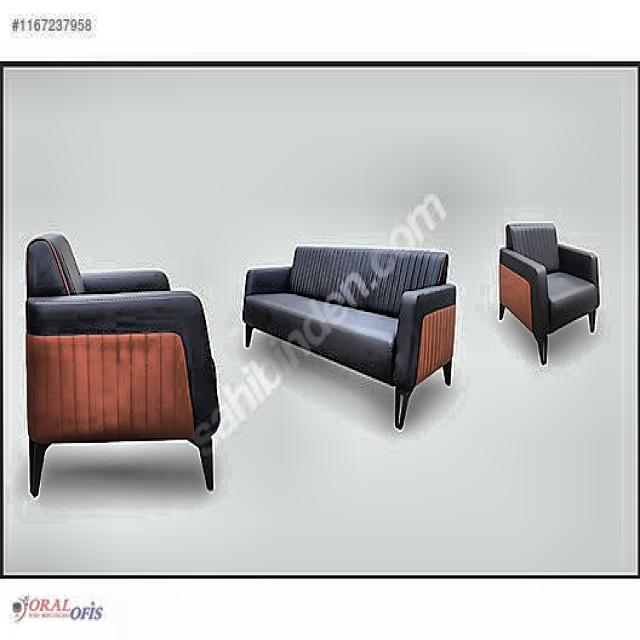sofa: (23, 231, 221, 496), (241, 242, 456, 428), (497, 220, 600, 364)
